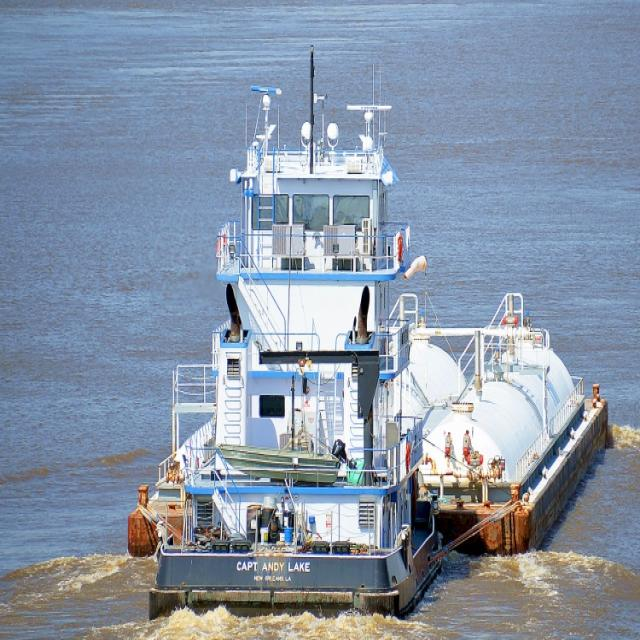tugboat: (127, 79, 452, 634)
